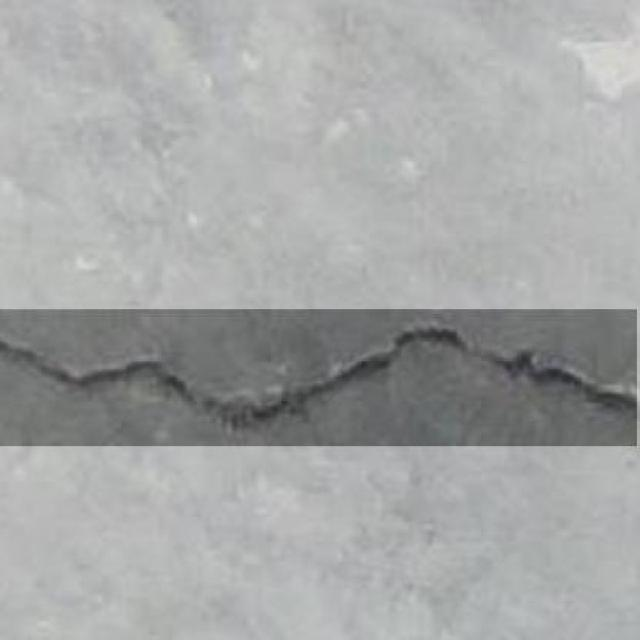Crack: (0, 306, 639, 454)
